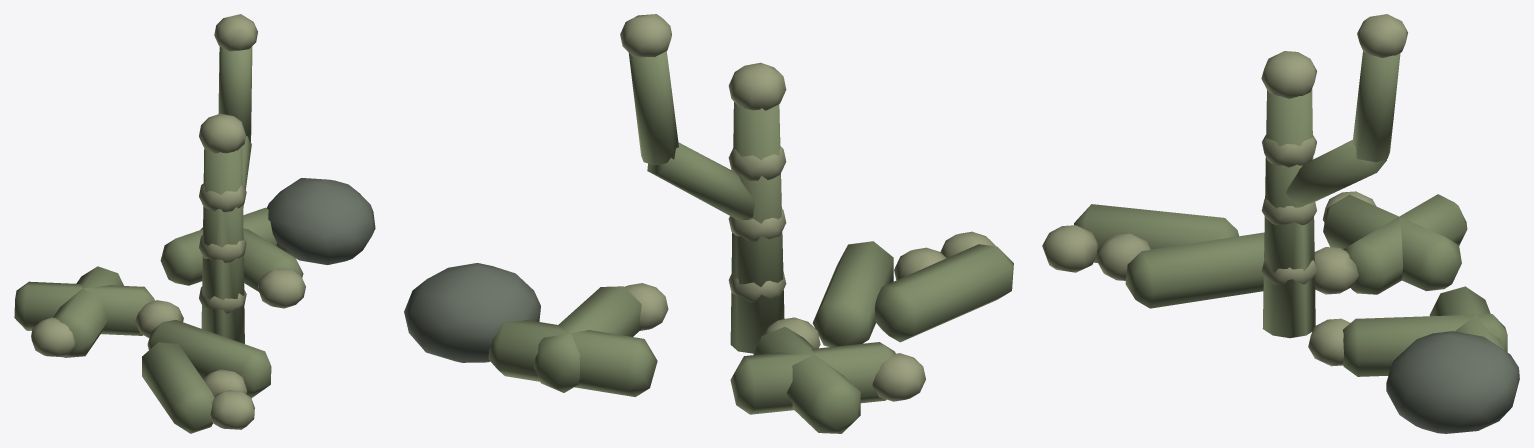
The model's file is cholla_c_lod1.glb.
The picture shows the model from 3 angles, left to right: view 1: azimuth 30°, elevation 25°; view 2: azimuth 150°, elevation 25°; view 3: azimuth 270°, elevation 25°; orthographic projection. The views are drawn at different scales.
Parts seen in each view (by area): view 1: Surface.001; view 2: Surface.001; view 3: Surface.001.
Boxes of the visible parts, x1,y1,x2,y2 form: Surface.001: (14,14,375,433); Surface.001: (404,14,1013,433); Surface.001: (1042,14,1519,433).
Bounding box in the file's own units: 1.58 × 1.16 × 1.46.
